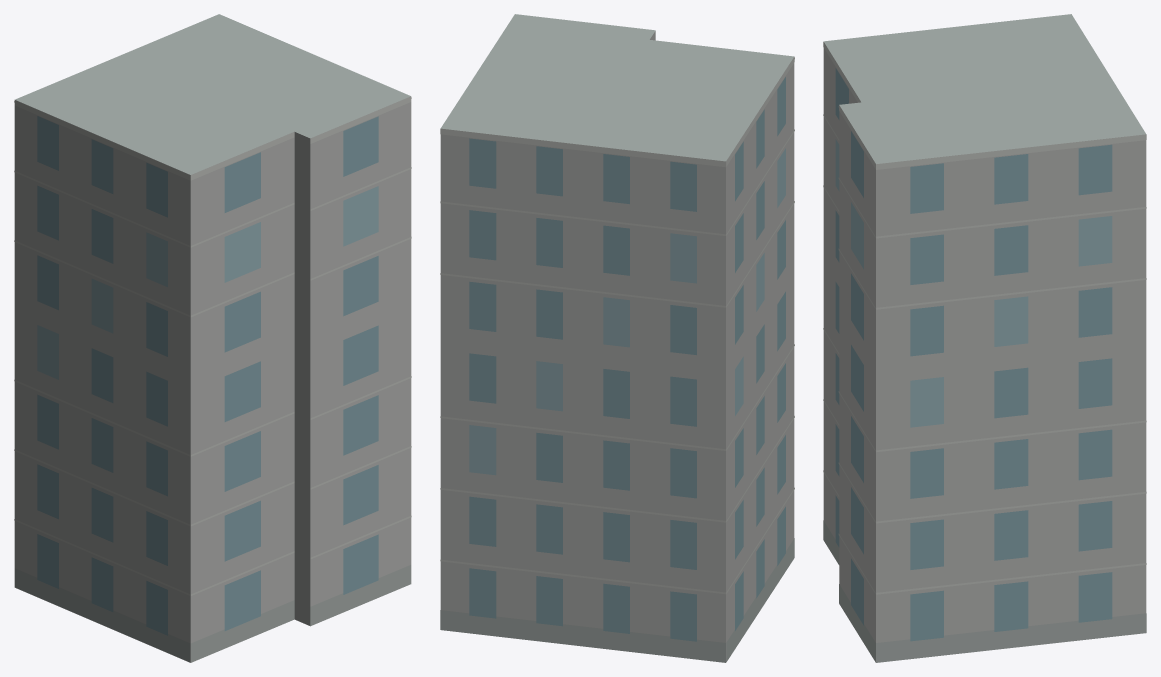
Rendered from survey-upis-32800066.glb.
The picture shows the model from 3 angles, left to right: view 1: azimuth 30°, elevation 25°; view 2: azimuth 150°, elevation 25°; view 3: azimuth 270°, elevation 25°; orthographic projection. The views are drawn at different scales.
Visible parts, largest first — view 1: survey-upis-32800066.tmp; view 2: survey-upis-32800066.tmp; view 3: survey-upis-32800066.tmp.
Boxes of the visible parts, x1,y1,x2,y2 form: survey-upis-32800066.tmp: (14, 14, 411, 662); survey-upis-32800066.tmp: (440, 14, 794, 662); survey-upis-32800066.tmp: (823, 14, 1146, 662).
Size of the model in its own units: 13.59 by 21 by 12.35.
